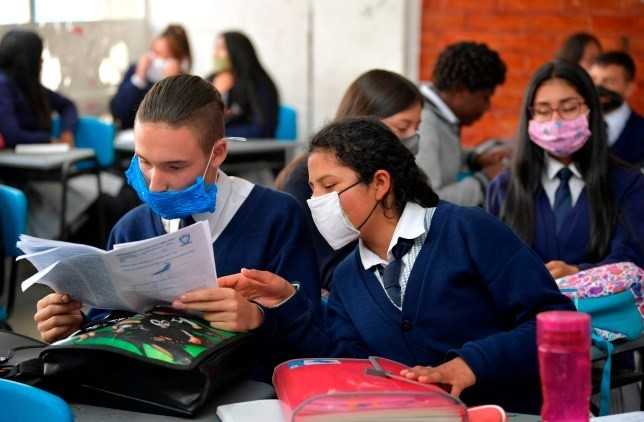face_no_mask: (429, 39, 507, 128)
face_with_mask: (127, 79, 230, 222), (307, 124, 397, 253), (343, 68, 423, 154), (527, 75, 594, 157), (588, 49, 633, 113)
